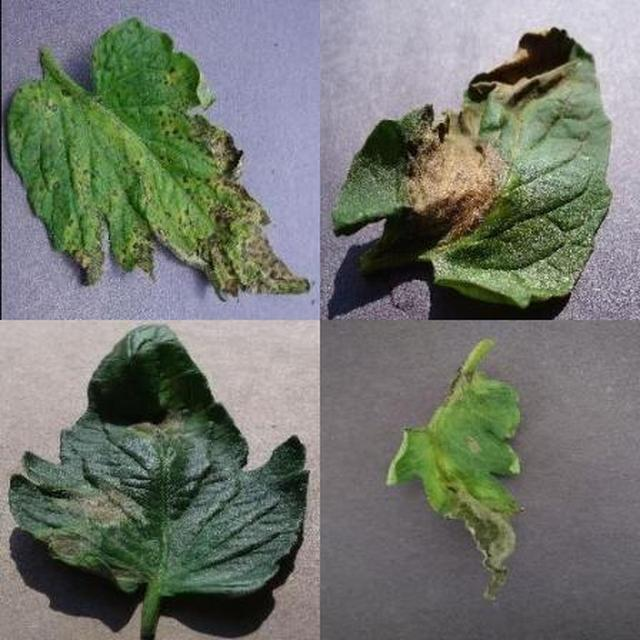Septoria Leaf: (203, 229, 640, 640)
